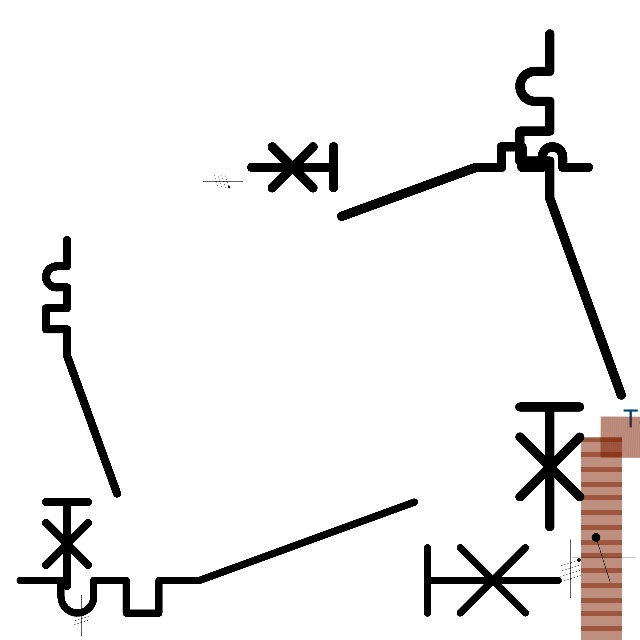interruptor_termomagnetico: (6, 488, 572, 627), (507, 21, 634, 539), (37, 231, 126, 595), (243, 138, 597, 224)
